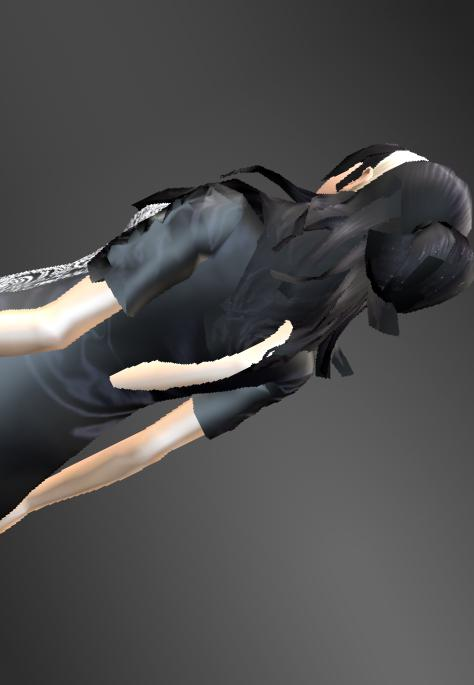clip: (235, 323, 301, 363)
